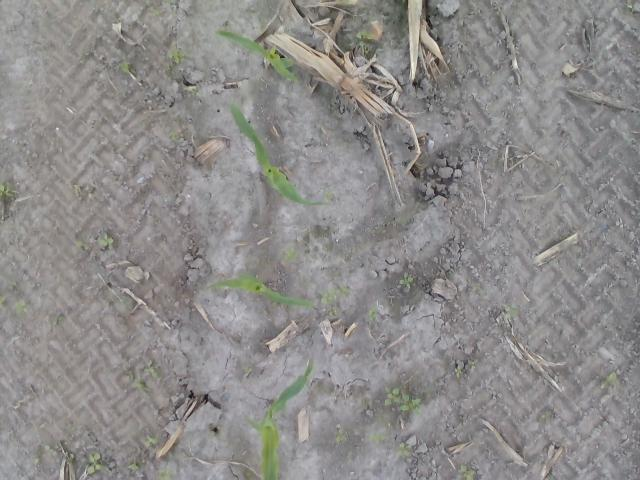Maize: (228, 97, 326, 208), (240, 355, 314, 480), (218, 29, 300, 82), (206, 277, 316, 307)
Weeds: (384, 386, 422, 417), (320, 286, 352, 302), (0, 296, 27, 312), (86, 452, 103, 474), (167, 48, 186, 66), (398, 272, 414, 289), (458, 465, 476, 480), (503, 302, 518, 320), (368, 432, 387, 446), (1, 181, 14, 199), (98, 234, 114, 248), (397, 442, 411, 457), (144, 366, 161, 378), (356, 32, 368, 49), (144, 434, 159, 446), (130, 378, 144, 390), (286, 247, 298, 260), (334, 429, 346, 442), (158, 469, 171, 480), (126, 461, 140, 471), (452, 368, 462, 380), (367, 311, 378, 321), (66, 454, 76, 464), (607, 373, 616, 384), (244, 366, 252, 378), (120, 64, 130, 73), (328, 308, 338, 316), (626, 3, 634, 13), (47, 449, 55, 457), (170, 132, 175, 140), (192, 90, 198, 96)
